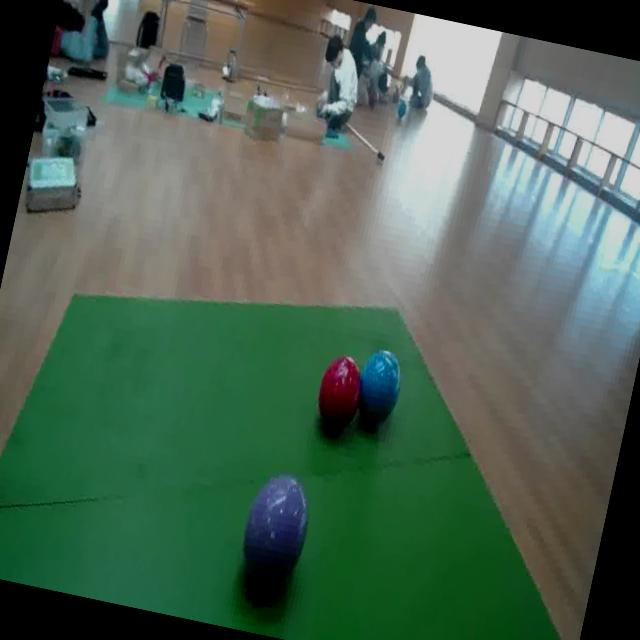blue_ball: (349, 344, 407, 434), (396, 100, 407, 118)
purple_ball: (234, 472, 316, 588)
red_ball: (311, 348, 368, 432)
